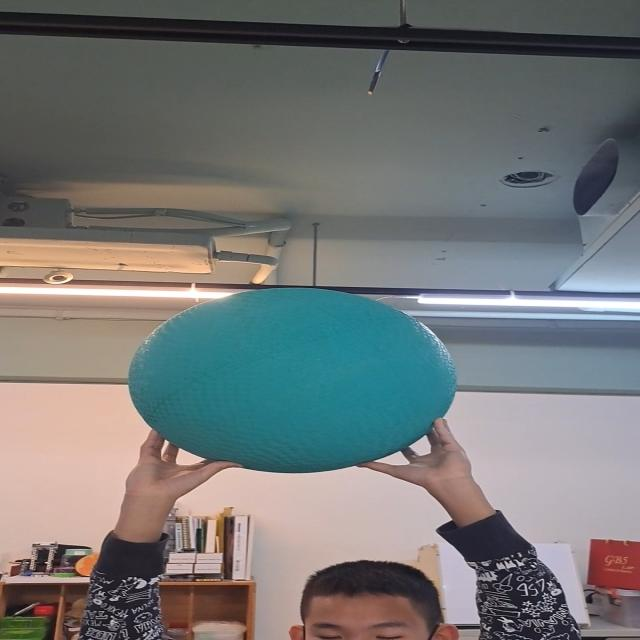ALGAE: (127, 289, 454, 474)
